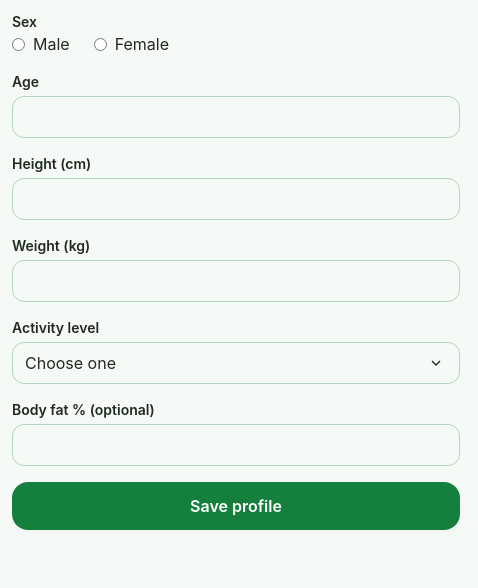
Scenario: ProfileForm › shows an error when body fat % is out of range
The image size is (478, 588).
Click the radio button labelled "Male" at (18, 44), box [12, 38, 25, 50]
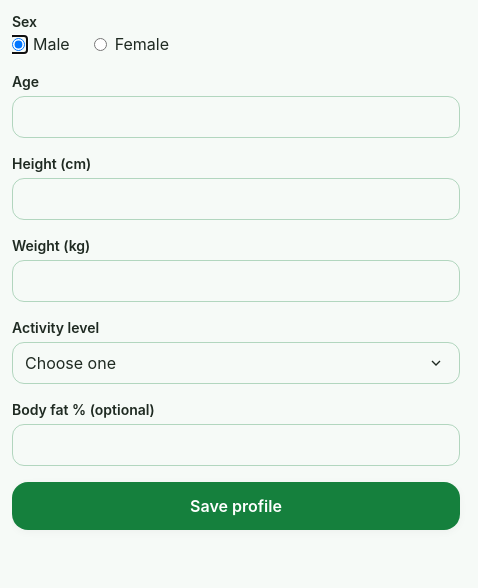
Type "30" into the number field labelled "Age" at (236, 117), box [12, 96, 460, 138]
Type "175" into the number field labelled "Height (cm)" at (236, 199), box [12, 178, 460, 220]
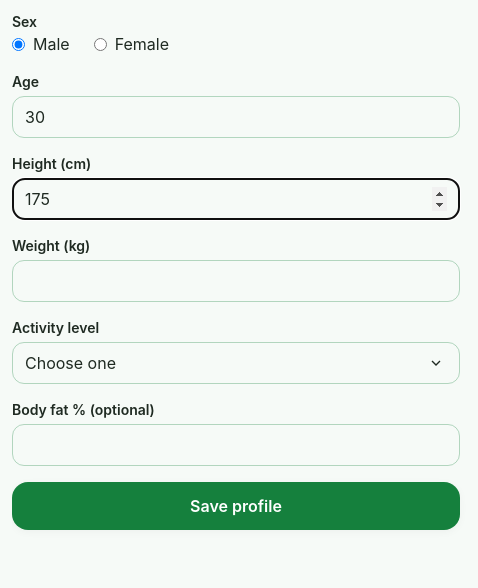
Type "80" into the number field labelled "Weight (kg)" at (236, 281), box [12, 260, 460, 302]
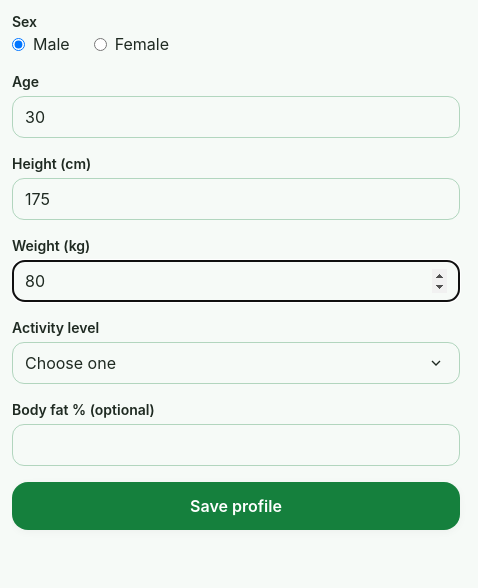
Select "Moderate" in the dropdown labelled "Activity level" at (236, 363), box [12, 342, 460, 384]
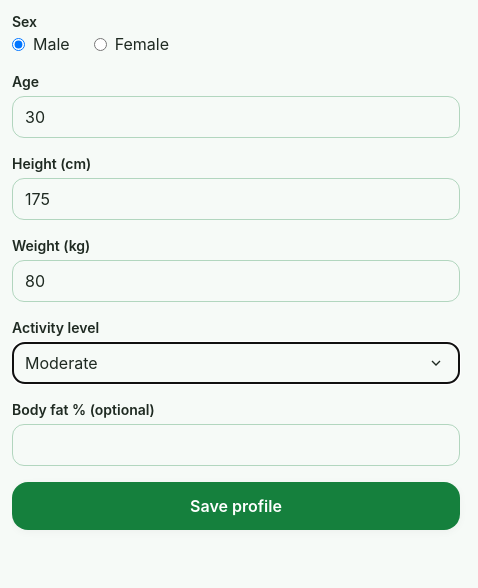
Type "65" into the number field labelled "Body fat % (optional)" at (236, 445), box [12, 424, 460, 466]
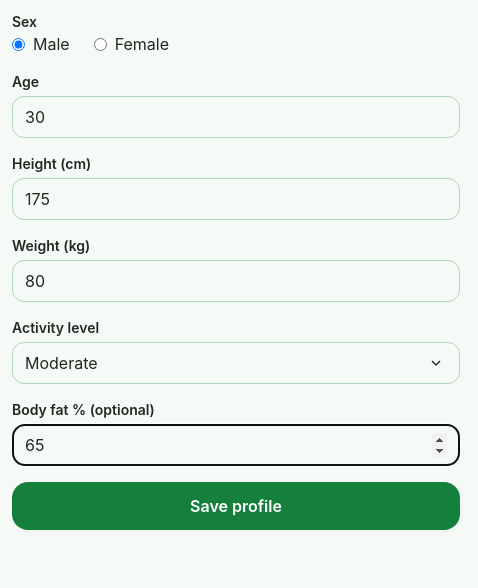
Click the button "Save profile" at (236, 506), box [12, 482, 460, 530]
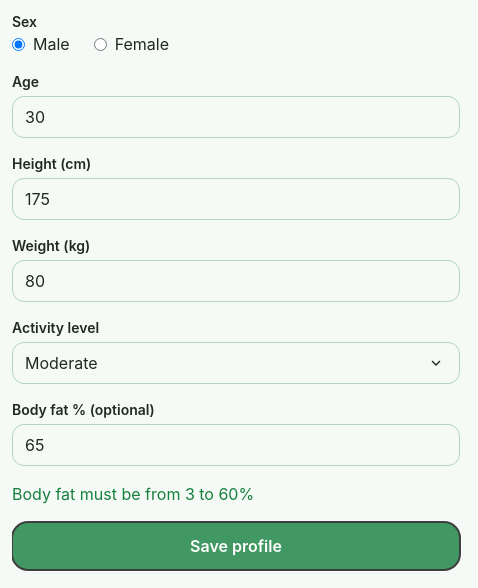
Now the message reads "Body fat must be from 3 to 60%", box [12, 484, 254, 504]
